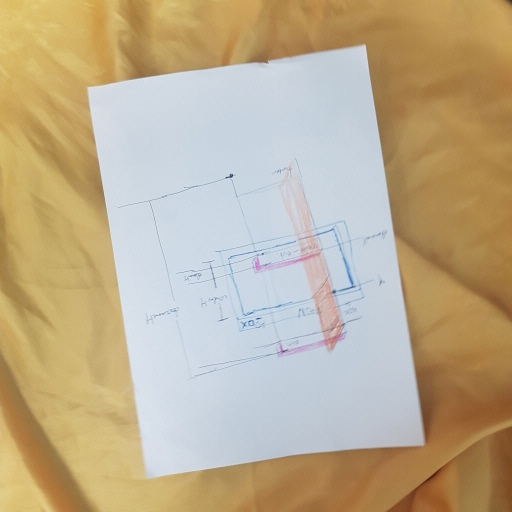Paper_2: (79, 41, 437, 488)
